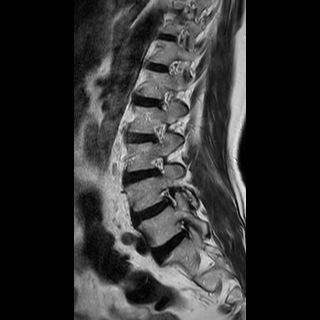LFS0: (147, 151, 177, 182), (149, 119, 176, 149), (155, 85, 180, 115)
LFS2: (155, 184, 183, 214)
